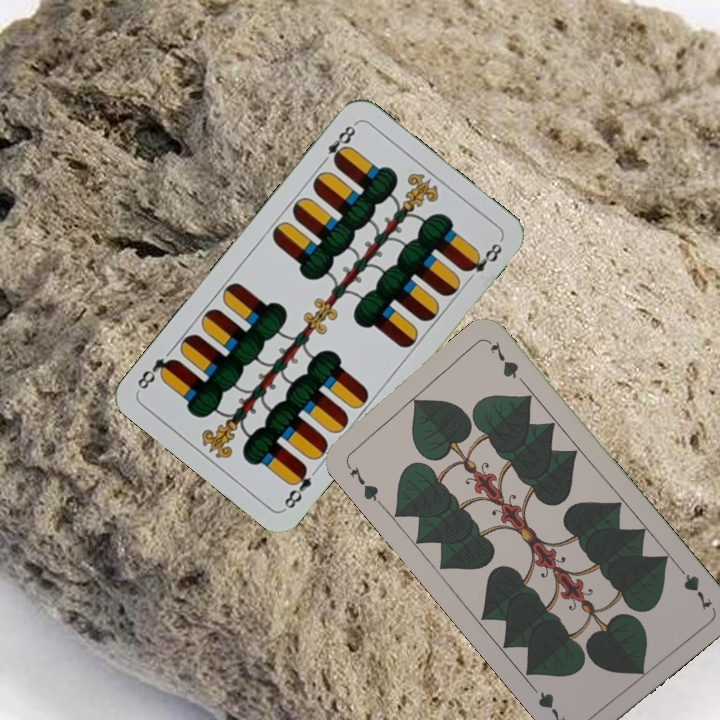E8: (316, 119, 359, 168), (280, 461, 315, 513)
G7: (672, 560, 715, 613), (342, 458, 384, 508)
